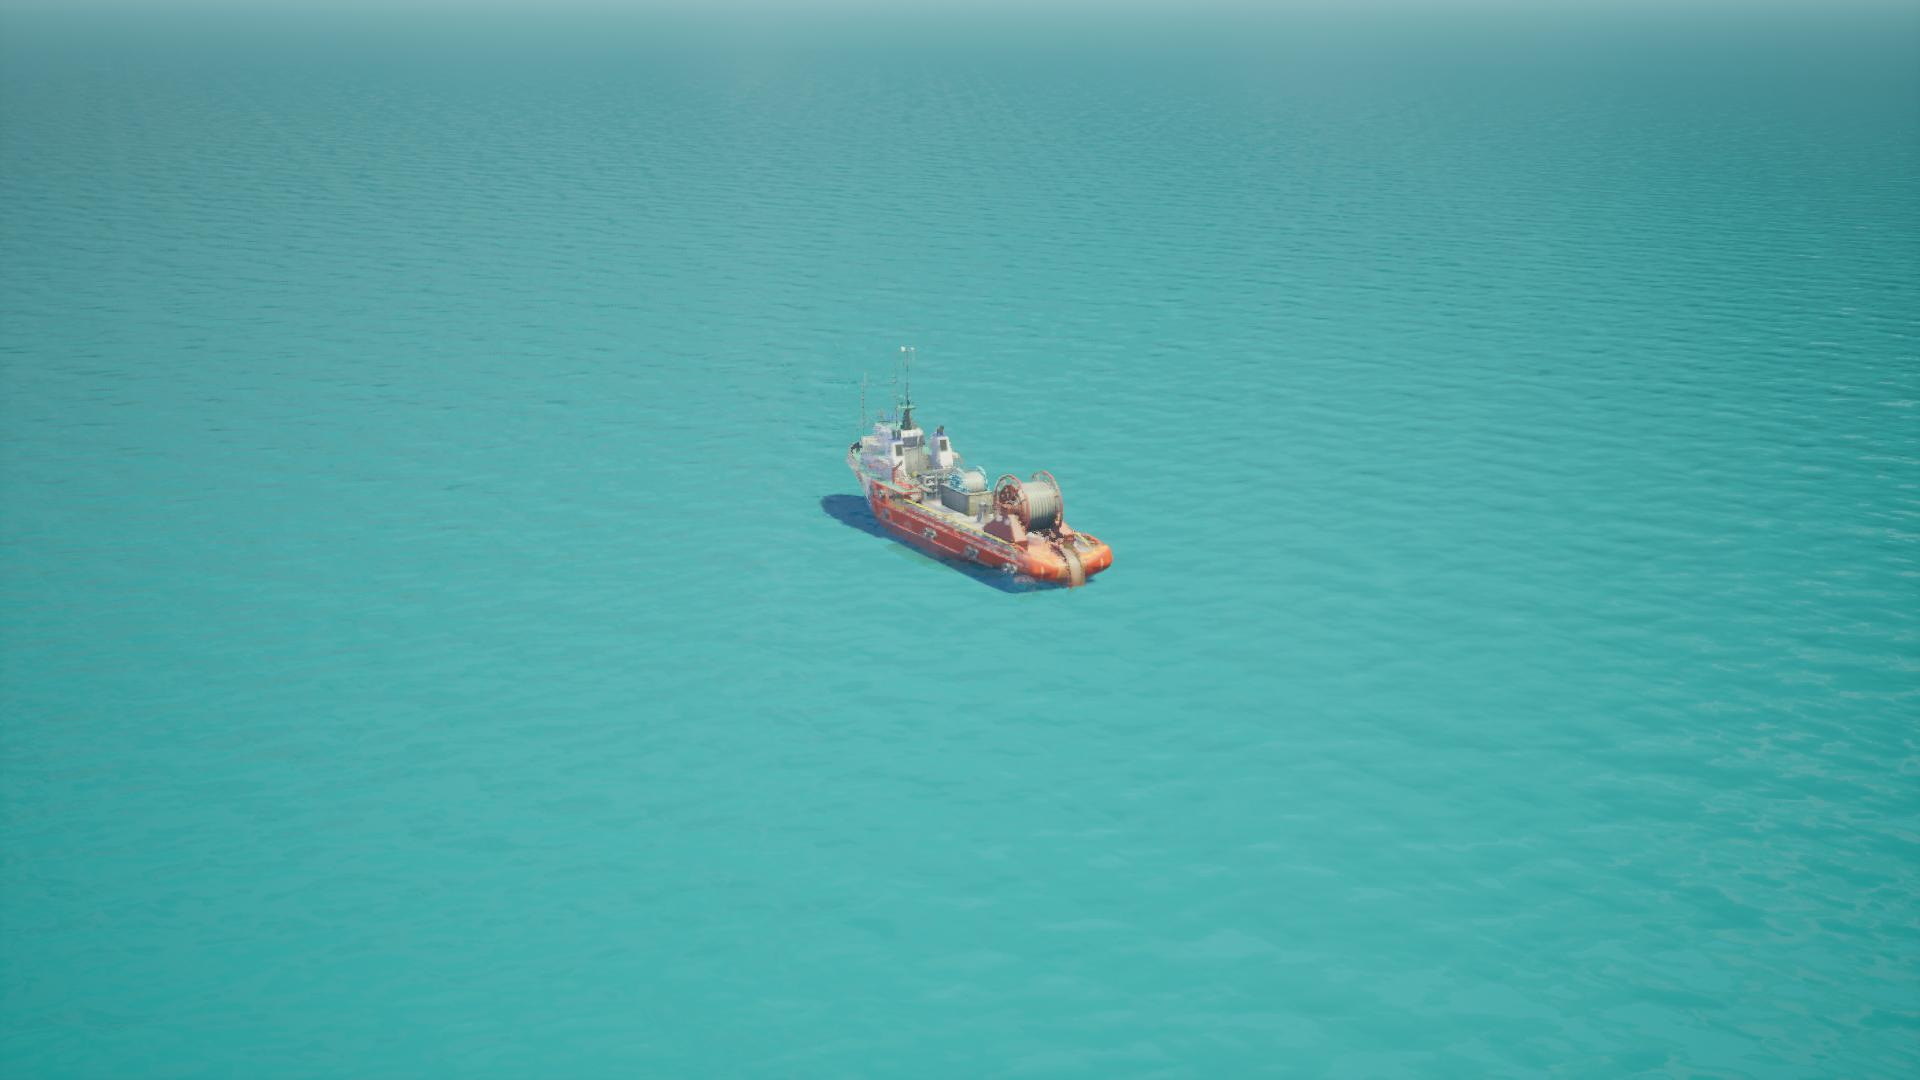Tug Boat: (837, 345, 1084, 600)
